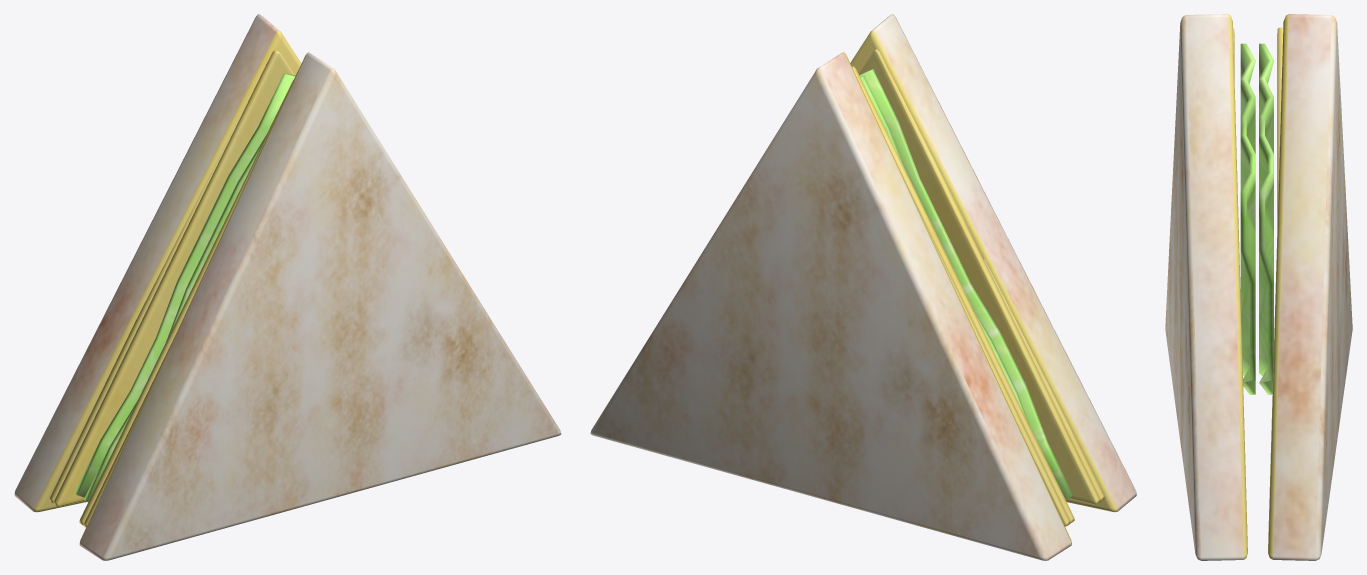
The model's file is sandwich_col.fbx.
3 views of the same model, side by side, from view 1: azimuth 30°, elevation 25°; view 2: azimuth 150°, elevation 25°; view 3: azimuth 270°, elevation 25° (orthographic).
Parts seen in each view (by area): view 1: sandwich; view 2: sandwich; view 3: sandwich.
Part boxes in pixels (bbox=[...]): sandwich: bbox=[14, 14, 561, 560]; sandwich: bbox=[590, 14, 1136, 560]; sandwich: bbox=[1165, 14, 1352, 560].
Bounding box in the file's own units: 172 × 149 × 58.77.
